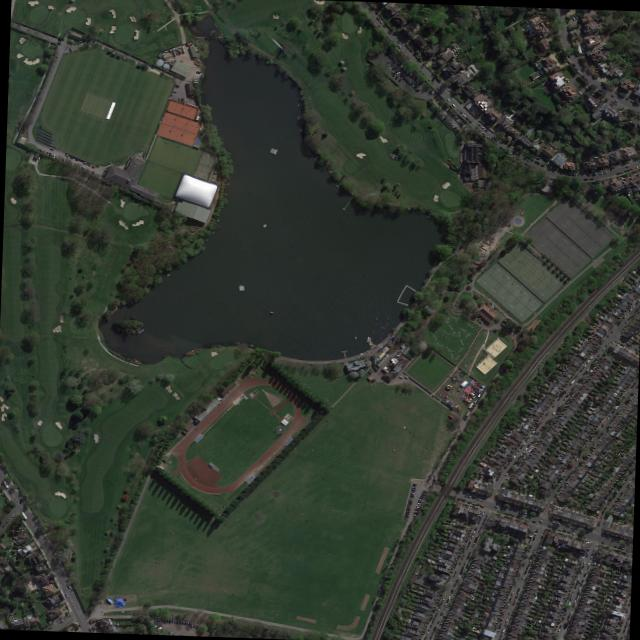large-vehicle: (2, 480, 9, 488), (21, 511, 27, 519), (465, 410, 471, 417), (467, 402, 473, 408), (539, 519, 543, 523)
ship: (137, 328, 145, 334), (385, 353, 389, 357), (269, 310, 273, 313), (379, 345, 383, 348), (360, 352, 363, 355), (354, 336, 356, 339), (381, 350, 384, 352), (369, 342, 371, 345), (367, 336, 369, 339), (366, 350, 368, 353), (374, 317, 377, 319), (359, 353, 361, 356), (383, 347, 385, 349), (369, 337, 371, 339), (367, 339, 368, 342)
small-vehicle: (569, 378, 575, 384), (500, 628, 505, 633), (157, 626, 162, 631), (615, 410, 620, 415), (593, 357, 598, 362), (448, 414, 454, 418), (435, 97, 441, 101), (455, 118, 460, 122), (404, 375, 409, 379), (457, 120, 462, 124), (454, 116, 459, 120), (453, 115, 458, 119), (450, 114, 455, 118), (432, 107, 437, 111), (461, 113, 466, 117), (451, 103, 456, 107), (442, 117, 447, 121), (451, 124, 456, 128), (434, 612, 438, 617), (31, 544, 36, 548), (59, 619, 64, 623), (425, 86, 429, 91), (384, 49, 388, 54), (387, 66, 391, 71), (69, 47, 73, 52), (622, 480, 626, 485), (614, 490, 618, 495), (397, 61, 401, 66), (398, 349, 403, 353), (513, 460, 517, 465), (576, 378, 581, 382), (565, 524, 570, 528), (582, 371, 587, 375), (544, 420, 549, 424), (519, 444, 523, 449), (478, 319, 483, 323), (493, 135, 498, 139), (511, 154, 516, 158), (578, 70, 582, 75), (573, 31, 578, 35), (524, 518, 530, 521), (469, 407, 473, 411), (399, 375, 403, 379), (449, 112, 453, 116), (446, 109, 450, 113), (438, 114, 442, 118), (455, 107, 459, 111), (447, 98, 451, 102), (404, 78, 408, 82), (458, 110, 462, 114), (465, 117, 469, 121), (468, 119, 472, 123), (444, 119, 448, 123), (446, 121, 450, 125), (447, 122, 451, 126), (450, 123, 454, 127), (453, 126, 457, 130), (454, 128, 458, 132), (481, 131, 485, 135), (484, 128, 488, 132), (477, 122, 481, 126), (390, 70, 394, 74), (500, 618, 504, 622), (470, 535, 474, 539), (416, 503, 420, 507), (459, 570, 463, 574), (454, 569, 458, 573), (590, 361, 594, 365), (27, 537, 31, 541), (28, 542, 32, 546), (155, 625, 159, 629), (48, 626, 52, 630), (7, 517, 11, 521), (409, 59, 413, 63), (406, 56, 410, 60), (403, 52, 407, 56), (377, 23, 381, 27), (418, 69, 422, 73), (427, 78, 431, 82), (370, 55, 374, 59), (394, 59, 398, 63), (392, 57, 396, 61), (389, 54, 393, 58), (182, 99, 186, 103), (57, 41, 61, 45), (175, 619, 179, 623), (572, 467, 576, 471), (564, 477, 568, 481), (562, 474, 566, 478), (624, 477, 628, 481), (619, 491, 623, 495), (607, 500, 611, 504), (592, 548, 596, 552), (579, 569, 583, 573), (576, 577, 580, 581), (575, 463, 579, 467), (551, 404, 555, 408), (498, 145, 502, 149), (574, 457, 578, 461), (509, 465, 513, 469), (507, 469, 511, 473), (557, 487, 561, 491), (626, 395, 630, 399), (592, 441, 596, 445), (614, 498, 618, 502), (88, 627, 92, 631), (601, 347, 605, 351), (611, 409, 615, 413), (610, 418, 614, 422), (590, 437, 594, 441), (577, 454, 581, 458), (618, 407, 622, 411), (614, 405, 618, 409), (589, 355, 593, 359), (586, 359, 590, 363), (580, 367, 584, 371), (574, 374, 578, 378), (630, 384, 634, 388), (627, 389, 631, 393), (629, 392, 633, 396), (507, 461, 511, 465), (504, 465, 508, 469), (496, 476, 500, 480), (527, 443, 531, 447), (545, 411, 549, 415), (533, 431, 537, 435), (533, 435, 537, 439), (471, 542, 475, 546), (532, 548, 536, 552), (480, 512, 484, 516), (478, 516, 482, 520), (552, 410, 556, 414), (557, 404, 561, 408), (557, 396, 561, 400), (634, 301, 638, 305), (629, 307, 633, 311), (632, 341, 636, 345), (598, 99, 602, 103), (486, 135, 490, 139), (511, 149, 515, 153), (520, 159, 524, 163), (523, 161, 527, 165), (610, 102, 614, 106), (578, 90, 582, 94), (598, 88, 602, 92), (584, 77, 588, 81), (581, 74, 585, 78), (404, 513, 409, 516), (407, 502, 412, 505), (409, 495, 414, 498), (411, 488, 416, 491), (413, 87, 418, 90), (408, 83, 413, 86), (405, 80, 410, 83), (402, 77, 407, 80), (399, 74, 404, 77), (480, 125, 485, 128), (404, 515, 409, 518), (505, 618, 508, 623), (461, 499, 466, 502), (422, 490, 427, 493), (394, 70, 399, 73), (385, 61, 390, 64), (429, 89, 432, 94), (174, 84, 179, 87), (172, 90, 177, 93), (180, 97, 183, 102), (53, 55, 58, 58), (167, 630, 170, 635), (184, 620, 187, 625), (581, 564, 584, 569), (415, 89, 420, 92), (501, 148, 506, 151), (512, 508, 517, 511), (605, 417, 610, 420), (475, 497, 480, 500), (480, 504, 485, 507), (551, 520, 556, 523), (535, 528, 538, 533), (531, 520, 536, 523), (515, 515, 520, 518), (625, 165, 630, 168), (625, 343, 630, 346), (623, 337, 628, 340), (546, 163, 551, 166), (554, 60, 557, 65), (634, 348, 638, 351), (474, 399, 477, 403), (458, 122, 462, 125), (461, 125, 465, 128), (444, 108, 448, 111), (431, 106, 435, 109), (407, 504, 411, 507), (438, 112, 441, 116), (410, 84, 414, 87), (407, 81, 411, 84), (396, 71, 400, 74), (398, 78, 401, 82), (395, 75, 398, 79), (455, 131, 459, 134), (463, 128, 467, 131), (424, 635, 427, 639), (426, 631, 429, 635), (429, 635, 432, 639), (431, 631, 434, 635), (433, 626, 436, 630), (432, 617, 436, 620), (437, 608, 440, 612), (439, 601, 442, 605), (517, 587, 520, 591), (511, 591, 514, 595), (508, 597, 511, 601), (512, 601, 515, 605), (505, 607, 508, 611), (508, 611, 511, 615), (502, 614, 505, 618), (498, 625, 501, 629), (444, 603, 447, 607), (446, 599, 449, 603), (457, 497, 461, 500), (422, 491, 426, 494), (421, 493, 425, 496), (420, 495, 424, 498), (418, 498, 422, 501), (417, 502, 421, 505), (415, 507, 419, 510), (447, 595, 450, 599), (423, 575, 426, 579), (453, 583, 456, 587), (455, 578, 458, 582), (449, 581, 452, 585), (453, 573, 456, 577), (457, 574, 460, 578), (458, 561, 461, 565), (460, 556, 463, 560), (466, 555, 469, 559), (468, 551, 471, 555), (462, 553, 465, 557), (392, 72, 395, 76), (67, 584, 70, 588), (65, 593, 68, 597), (78, 623, 81, 627), (21, 528, 24, 532), (2, 524, 6, 527), (70, 155, 74, 158), (75, 158, 79, 161), (83, 161, 87, 164), (0, 481, 3, 485), (11, 513, 14, 517), (50, 153, 53, 157), (408, 71, 411, 75), (388, 37, 392, 40), (383, 30, 386, 34), (382, 24, 386, 27), (409, 72, 412, 76), (411, 74, 414, 78), (413, 75, 416, 79), (400, 64, 403, 68), (391, 55, 394, 59), (392, 67, 396, 70), (53, 58, 57, 61), (177, 97, 180, 101), (87, 170, 90, 174), (85, 169, 88, 173), (78, 164, 81, 168), (75, 164, 78, 168), (64, 159, 67, 163), (195, 625, 198, 629), (193, 624, 196, 628), (190, 623, 193, 627), (188, 622, 191, 626), (181, 620, 184, 624), (171, 619, 174, 623), (514, 582, 517, 586), (597, 522, 600, 526), (562, 529, 566, 532), (621, 547, 625, 550), (617, 546, 621, 549), (602, 520, 605, 524), (598, 518, 601, 522), (599, 514, 602, 518), (601, 510, 604, 514), (570, 470, 573, 474), (559, 484, 563, 487), (627, 481, 631, 484), (612, 494, 616, 497), (611, 503, 615, 506), (544, 502, 547, 506), (603, 506, 606, 510), (591, 551, 594, 555), (593, 561, 596, 565), (578, 579, 581, 583), (581, 579, 584, 583), (578, 586, 581, 590), (572, 589, 575, 593), (569, 596, 572, 600), (587, 562, 590, 566), (585, 553, 588, 557), (590, 555, 593, 559), (625, 609, 628, 613), (621, 620, 624, 624), (624, 624, 627, 628), (618, 628, 621, 632), (615, 636, 618, 640), (620, 634, 623, 638), (567, 474, 571, 477), (524, 570, 527, 574), (515, 157, 519, 160), (547, 80, 551, 83), (160, 629, 163, 633), (164, 618, 167, 622), (50, 584, 53, 588), (624, 400, 627, 404), (582, 455, 585, 459), (617, 487, 620, 491), (619, 484, 622, 488), (498, 504, 502, 507), (613, 414, 616, 418), (608, 413, 612, 416), (565, 394, 569, 397), (605, 425, 609, 428), (601, 423, 604, 427), (597, 435, 601, 438), (585, 444, 588, 448), (583, 364, 586, 368), (586, 367, 589, 371), (633, 381, 636, 385), (568, 601, 571, 605), (495, 492, 498, 496), (492, 486, 495, 490), (569, 610, 572, 614), (471, 495, 475, 498), (550, 500, 553, 504), (517, 456, 520, 460), (524, 447, 528, 450), (538, 421, 542, 424), (540, 427, 544, 430), (536, 432, 539, 436), (530, 439, 534, 442), (517, 449, 521, 452), (513, 454, 516, 458), (475, 503, 479, 506), (534, 532, 537, 536), (532, 536, 535, 540), (474, 537, 478, 540), (529, 544, 532, 548), (525, 554, 528, 558), (461, 566, 464, 570), (487, 559, 490, 563), (521, 562, 524, 566), (548, 525, 552, 528), (473, 530, 476, 534), (478, 529, 481, 533), (480, 525, 483, 529), (481, 521, 484, 525), (497, 510, 501, 513), (532, 514, 536, 517), (616, 172, 620, 175), (634, 165, 638, 168), (637, 298, 640, 302), (632, 304, 635, 308), (567, 615, 570, 619), (559, 624, 562, 628), (627, 339, 631, 342), (610, 330, 614, 333), (617, 322, 621, 325), (567, 54, 570, 58), (499, 140, 503, 143), (508, 152, 512, 155), (516, 151, 519, 155), (526, 158, 530, 161), (557, 168, 563, 170), (537, 156, 541, 159), (572, 16, 575, 20), (575, 16, 578, 20), (614, 99, 618, 102), (610, 94, 614, 97), (565, 80, 569, 83), (575, 67, 578, 71), (408, 499, 413, 501), (53, 153, 55, 158), (46, 150, 48, 155), (605, 537, 610, 539), (517, 510, 522, 512), (510, 514, 515, 516), (583, 178, 588, 180), (598, 172, 603, 174), (595, 70, 600, 72), (441, 116, 444, 119), (478, 129, 481, 132), (427, 628, 430, 631), (429, 624, 432, 627), (431, 620, 434, 623), (440, 612, 443, 615), (438, 605, 441, 608), (498, 637, 501, 640), (516, 591, 519, 594), (506, 603, 509, 606), (496, 630, 499, 633), (441, 598, 444, 601), (418, 500, 421, 503), (466, 544, 469, 547), (463, 562, 466, 565), (154, 625, 157, 628), (97, 628, 100, 631), (5, 520, 8, 523), (386, 34, 389, 37), (400, 49, 403, 52), (380, 20, 383, 23), (377, 17, 380, 20), (416, 78, 419, 81), (431, 91, 434, 94), (69, 162, 72, 165), (521, 576, 524, 579), (609, 507, 612, 510), (582, 561, 585, 564), (579, 583, 582, 586), (575, 582, 578, 585), (576, 591, 579, 594), (571, 593, 574, 596), (573, 600, 576, 603), (557, 628, 560, 631), (623, 616, 626, 619), (622, 629, 625, 632), (462, 98, 465, 101), (536, 424, 539, 427), (583, 573, 586, 576), (530, 554, 533, 557), (605, 344, 608, 347), (563, 397, 566, 400), (600, 432, 603, 435), (580, 451, 583, 454), (597, 353, 600, 356), (622, 396, 625, 399), (574, 383, 577, 386), (571, 387, 574, 390), (572, 603, 575, 606), (565, 608, 568, 611), (505, 472, 508, 475), (499, 472, 502, 475), (480, 498, 483, 501), (547, 508, 550, 511), (523, 511, 526, 514), (522, 450, 525, 453), (534, 427, 537, 430), (525, 439, 528, 442), (523, 442, 526, 445), (515, 452, 518, 455), (529, 558, 532, 561), (477, 521, 480, 524), (474, 527, 477, 530), (483, 518, 486, 521), (485, 514, 488, 517), (631, 167, 634, 170), (563, 612, 566, 615), (607, 333, 610, 336), (623, 315, 626, 318), (625, 320, 628, 323), (627, 317, 630, 320), (633, 310, 636, 313), (523, 156, 526, 159), (527, 164, 530, 167), (572, 63, 575, 66), (404, 517, 408, 519), (412, 483, 416, 485), (412, 485, 416, 487), (412, 486, 416, 488), (405, 512, 409, 514), (406, 510, 410, 512), (406, 508, 410, 510), (406, 506, 410, 508), (408, 501, 412, 503), (409, 497, 413, 499), (410, 494, 414, 496), (410, 492, 414, 494), (436, 112, 440, 114), (413, 514, 417, 516), (413, 512, 417, 514), (500, 633, 502, 637), (471, 502, 475, 504), (467, 501, 471, 503), (419, 497, 423, 499), (416, 506, 420, 508), (467, 495, 471, 497), (451, 588, 453, 592), (163, 629, 165, 633), (169, 618, 171, 622), (157, 616, 159, 620), (49, 152, 51, 156), (43, 149, 45, 153), (49, 147, 53, 149), (65, 154, 69, 156), (87, 163, 91, 165), (91, 165, 95, 167), (83, 167, 85, 171), (81, 166, 83, 170), (174, 619, 176, 623), (187, 621, 189, 625), (179, 620, 181, 624), (558, 528, 562, 530), (567, 531, 571, 533), (570, 526, 574, 528), (585, 531, 589, 533), (571, 532, 575, 534), (611, 539, 615, 541), (616, 540, 620, 542), (625, 543, 629, 545), (613, 545, 617, 547), (600, 541, 604, 543), (585, 541, 589, 543), (574, 585, 576, 589), (626, 620, 628, 624), (491, 490, 493, 494), (508, 507, 512, 509), (494, 505, 498, 507), (506, 513, 510, 515), (520, 517, 524, 519), (571, 174, 575, 176), (589, 178, 593, 180), (591, 173, 595, 175), (603, 171, 607, 173), (620, 171, 624, 173), (627, 169, 631, 171), (635, 111, 639, 113), (618, 110, 622, 112), (411, 490, 414, 492), (515, 594, 517, 597), (514, 598, 516, 601), (468, 541, 470, 544), (48, 577, 50, 580), (40, 149, 42, 152), (55, 155, 57, 158), (71, 163, 73, 166), (519, 572, 521, 575), (629, 544, 632, 546), (628, 603, 630, 606), (368, 371, 371, 373), (38, 148, 40, 151), (28, 627, 30, 630), (556, 522, 559, 524), (527, 550, 530, 552), (526, 566, 528, 569), (484, 558, 486, 561), (568, 173, 571, 175), (624, 170, 627, 172), (562, 617, 564, 620), (591, 92, 593, 95), (399, 44, 400, 48), (62, 158, 63, 162), (554, 638, 556, 640), (620, 638, 622, 640), (167, 618, 168, 622), (638, 165, 640, 167), (0, 555, 1, 557)
